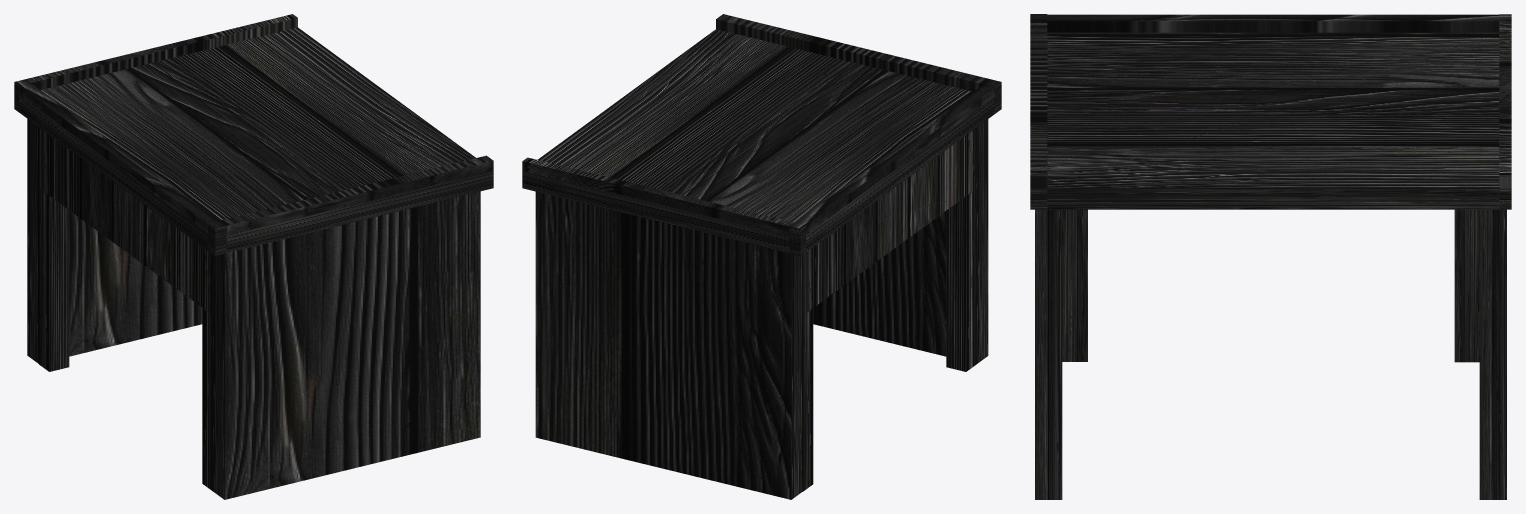
Rendered from Desk1.fbx.
The picture shows the model from 3 angles, left to right: view 1: azimuth 30°, elevation 25°; view 2: azimuth 150°, elevation 25°; view 3: azimuth 270°, elevation 25°; orthographic projection. The views are drawn at different scales.
Parts seen in each view (by area): view 1: Cube.003, Cube, Cube.002, Cube.001; view 2: Cube.003, Cube.001, Cube.002, Cube; view 3: Cube.003, Cube, Cube.001, Cube.002.
Boxes of the visible parts, left/top/right/bottom form: Cube.003: left=14, top=14, right=493, bottom=255; Cube: left=213, top=191, right=480, bottom=499; Cube.002: left=39, top=127, right=212, bottom=491; Cube.001: left=27, top=119, right=202, bottom=363; Cube.003: left=522, top=14, right=1001, bottom=255; Cube.001: left=535, top=191, right=802, bottom=499; Cube.002: left=803, top=127, right=976, bottom=491; Cube: left=813, top=119, right=988, bottom=363; Cube.003: left=1030, top=14, right=1511, bottom=209; Cube: left=1035, top=209, right=1062, bottom=499; Cube.001: left=1479, top=209, right=1506, bottom=499; Cube.002: left=1062, top=209, right=1479, bottom=362.
Size of the model in its own units: 866 by 819 by 1082.
